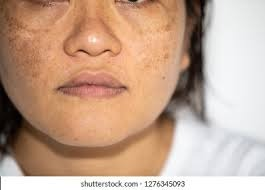Melasma: (0, 10, 51, 85), (135, 18, 171, 72)
